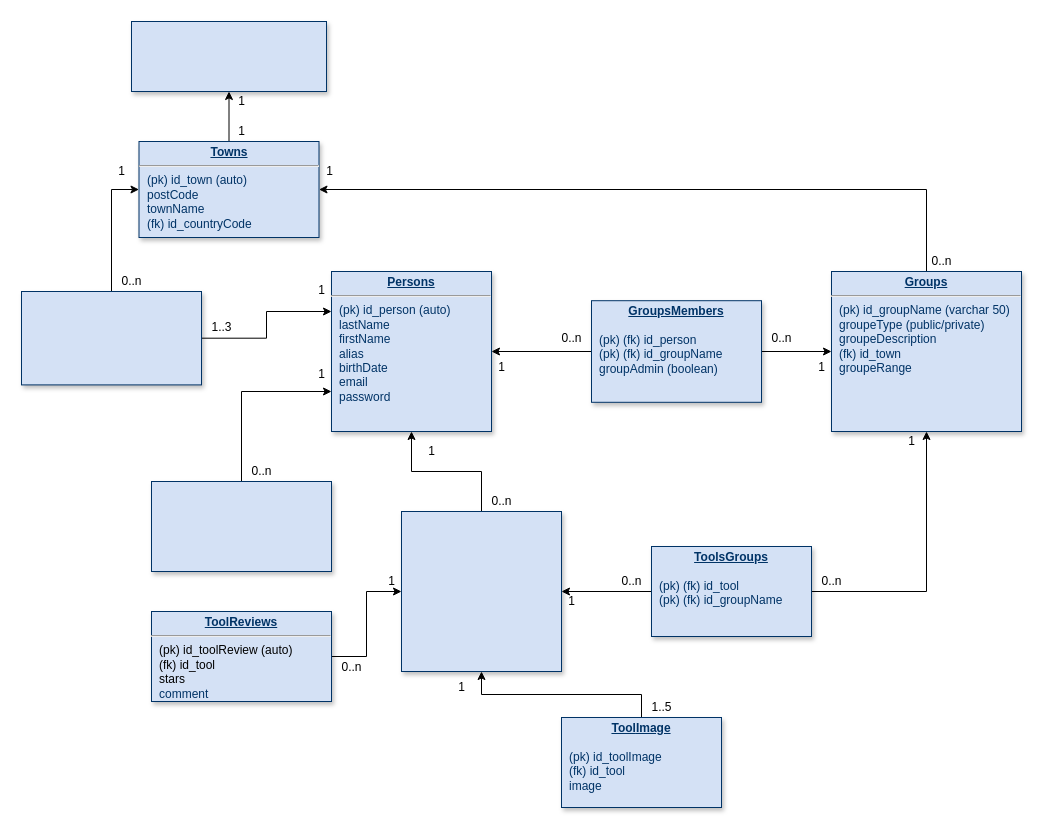
Image size: 1045x832. Some labels were removed from this diagram. The shapes that lost their labels are listed below. From the top down, each one's centre as x and y in pixels, then its label:
[229,57]: Countries (pk) Id_countryCode (varChar 5) countryName
[112,339]: PersonsTowns (pk) id_personsRegions (auto) (fk) id_person (fk) id_town
[242,527]: PersonReviews (pk) id_personReview (auto) (fk) id_person stars comment
[482,592]: Tools (pk) id_tool (auto) (fk) id_person toolName toodDescription toolPrice
